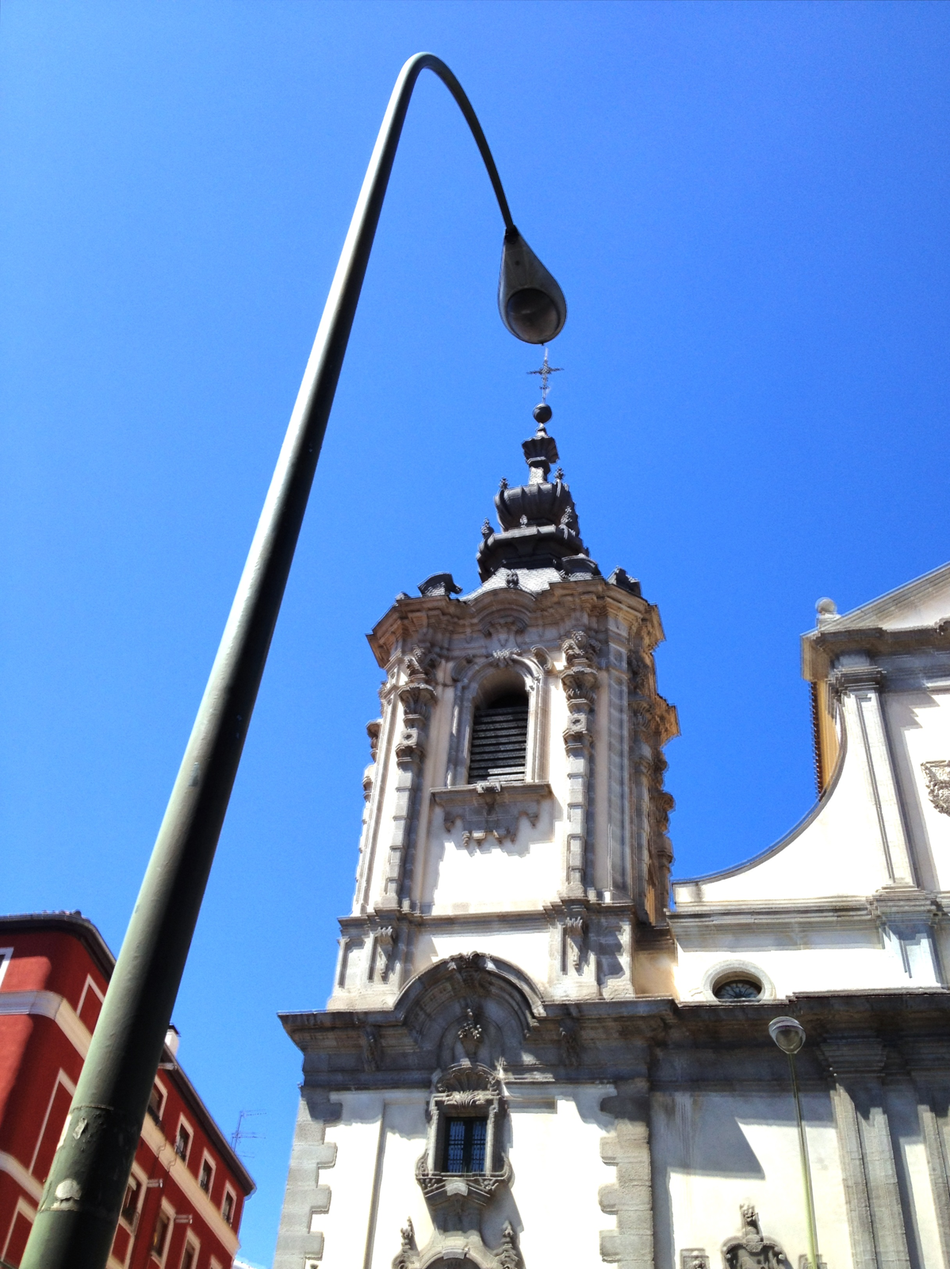fachada: (305, 393, 950, 1269), (4, 904, 282, 1265)
poste: (20, 44, 587, 1265)
